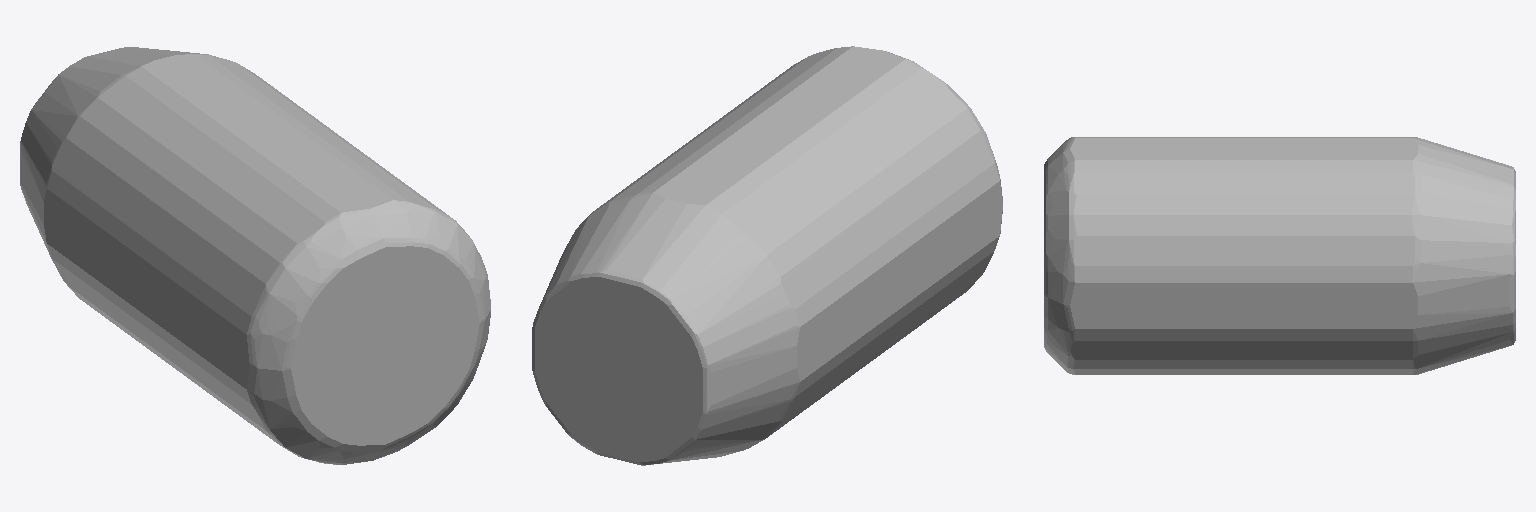
URDF robot description (root):
<robot name="root">
  <link name="link_coacd_convex_piece_0">
    <inertial>
      <origin xyz="0 0 0" rpy="0 0 0"/>
      <inertia ixx="3.18E-01" ixy="-4.52E-05" ixz="4.21E-06" iyy="1.08E-01" iyz="-3.07E-05" izz="3.18E-01"/>
    </inertial>
    <visual>
      <origin xyz="0 0 0" rpy="0 0 0"/>
      <geometry>
        <mesh filename="coacd_convex_piece_0.obj" scale="1.0000E+00 1.0000E+00 1.0000E+00"/>
      </geometry>
      <material name="">
        <color rgba="7.50E-01 7.50E-01 7.50E-01 1"/>
      </material>
    </visual>
    <collision>
      <origin xyz="0 0 0" rpy="0 0 0"/>
      <geometry>
        <mesh filename="coacd_convex_piece_0.obj" scale="1.0000E+00 1.0000E+00 1.0000E+00"/>
      </geometry>
    </collision>
  </link>
</robot>

--- What the picture shows (computed from the rendered views, not written in the file) ---
Views: 3 orthographic renders of the robot side by side, from view 1: azimuth 30°, elevation 25°; view 2: azimuth 150°, elevation 25°; view 3: azimuth 270°, elevation 25°.
Model root with 1 links and 0 joints (none), rooted at link_coacd_convex_piece_0, posed all joints at 0.
Links seen in each view (by area): view 1: link_coacd_convex_piece_0; view 2: link_coacd_convex_piece_0; view 3: link_coacd_convex_piece_0.
Link boxes in pixels (box(x1,y1,x2,y2)): link_coacd_convex_piece_0: box(20, 47, 490, 464); link_coacd_convex_piece_0: box(532, 46, 1002, 465); link_coacd_convex_piece_0: box(1044, 137, 1515, 374).
Size in the robot's own frame: 0.9154 by 1.83 by 0.9154 metres.
Meshes: 1 distinct files referenced, 1 mesh visuals loaded (1 OBJ).